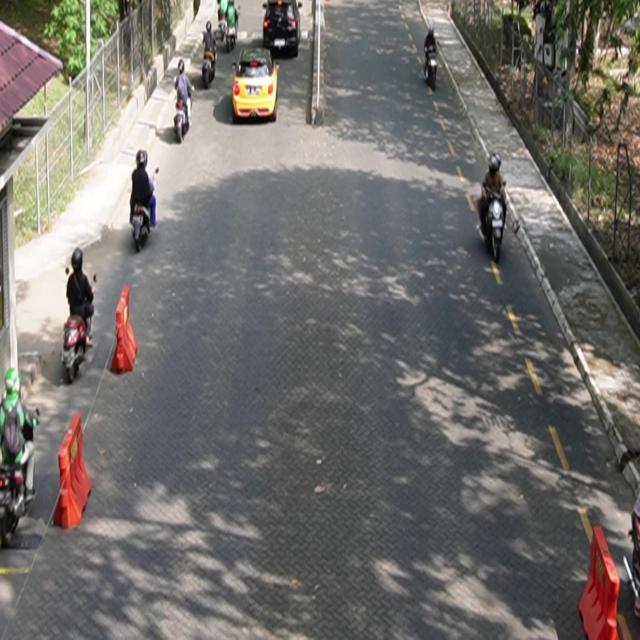car: (232, 47, 281, 123), (263, 1, 303, 58)
